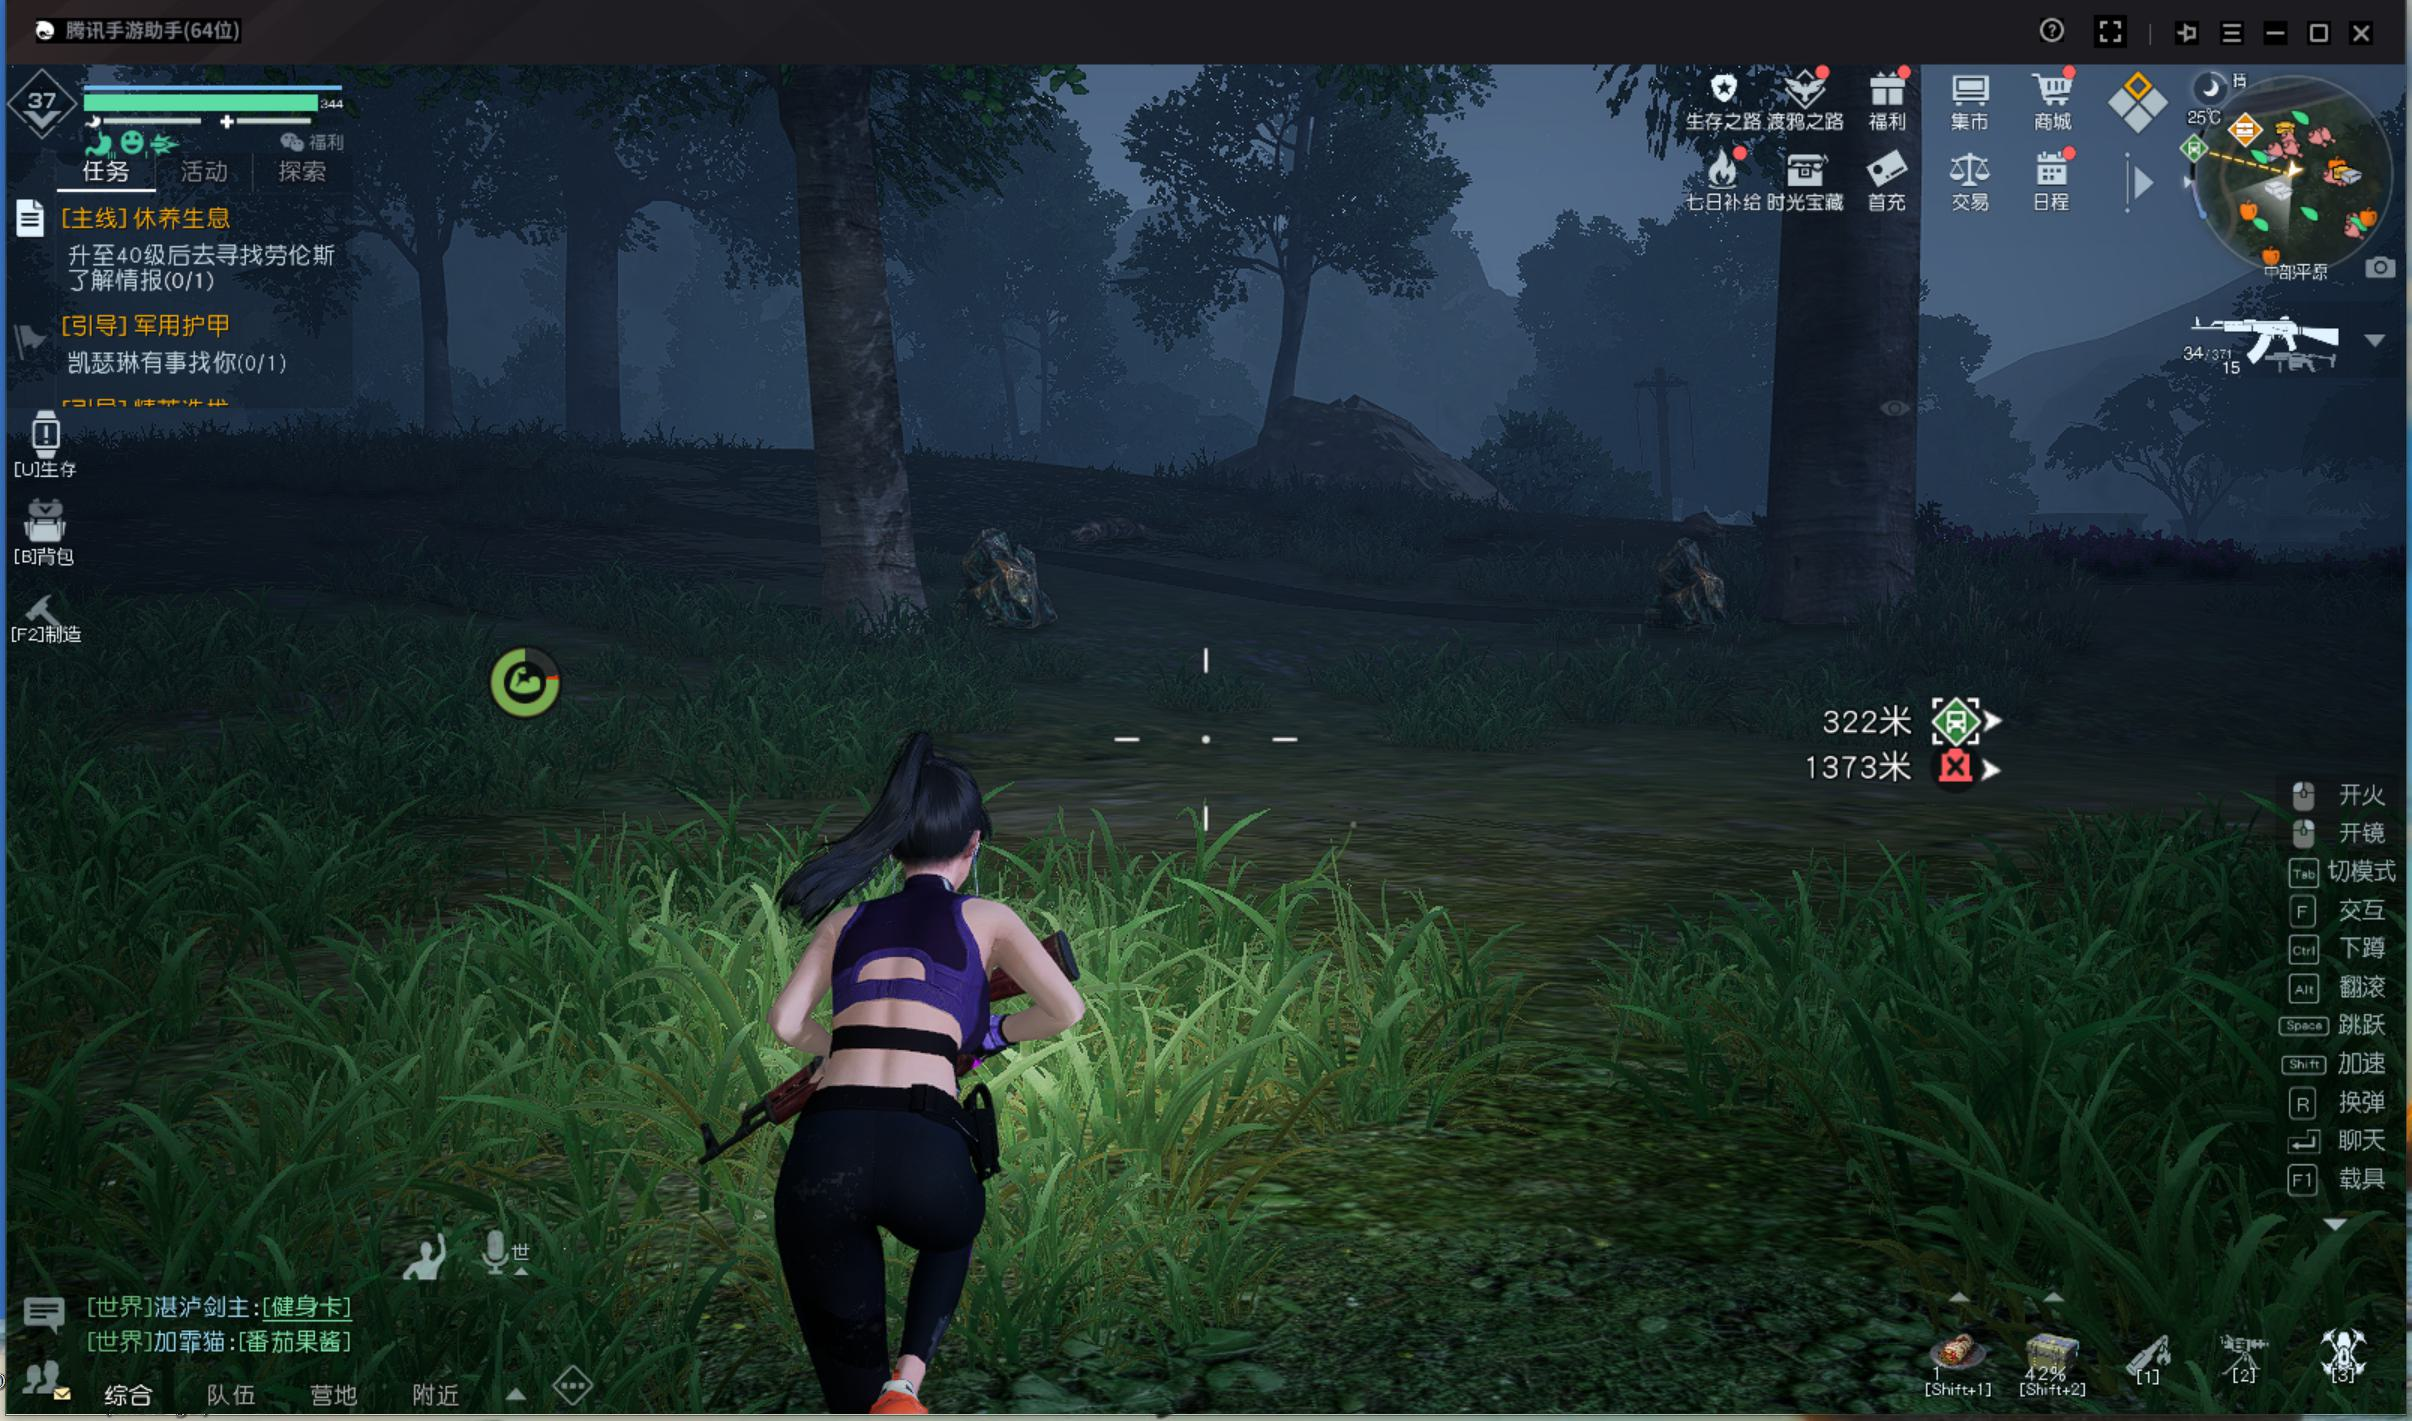stone: (1627, 518, 1746, 648), (961, 511, 1076, 619)
tree: (1764, 222, 1933, 651), (788, 227, 944, 675), (556, 208, 629, 460), (413, 239, 458, 443), (1247, 232, 1284, 479)
